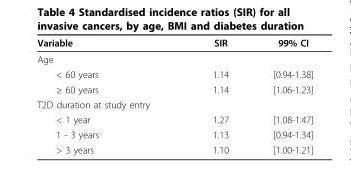table: (36, 36, 312, 154)
table column: (36, 36, 180, 154), (180, 36, 250, 154), (250, 36, 312, 154)
table column header: (36, 36, 312, 50)
table projected row header: (36, 50, 312, 66), (36, 96, 312, 111)
table row: (36, 50, 312, 66), (36, 66, 312, 81), (36, 81, 312, 96), (36, 96, 312, 111), (36, 111, 312, 126), (36, 126, 312, 141), (36, 36, 312, 50), (36, 141, 312, 154)
